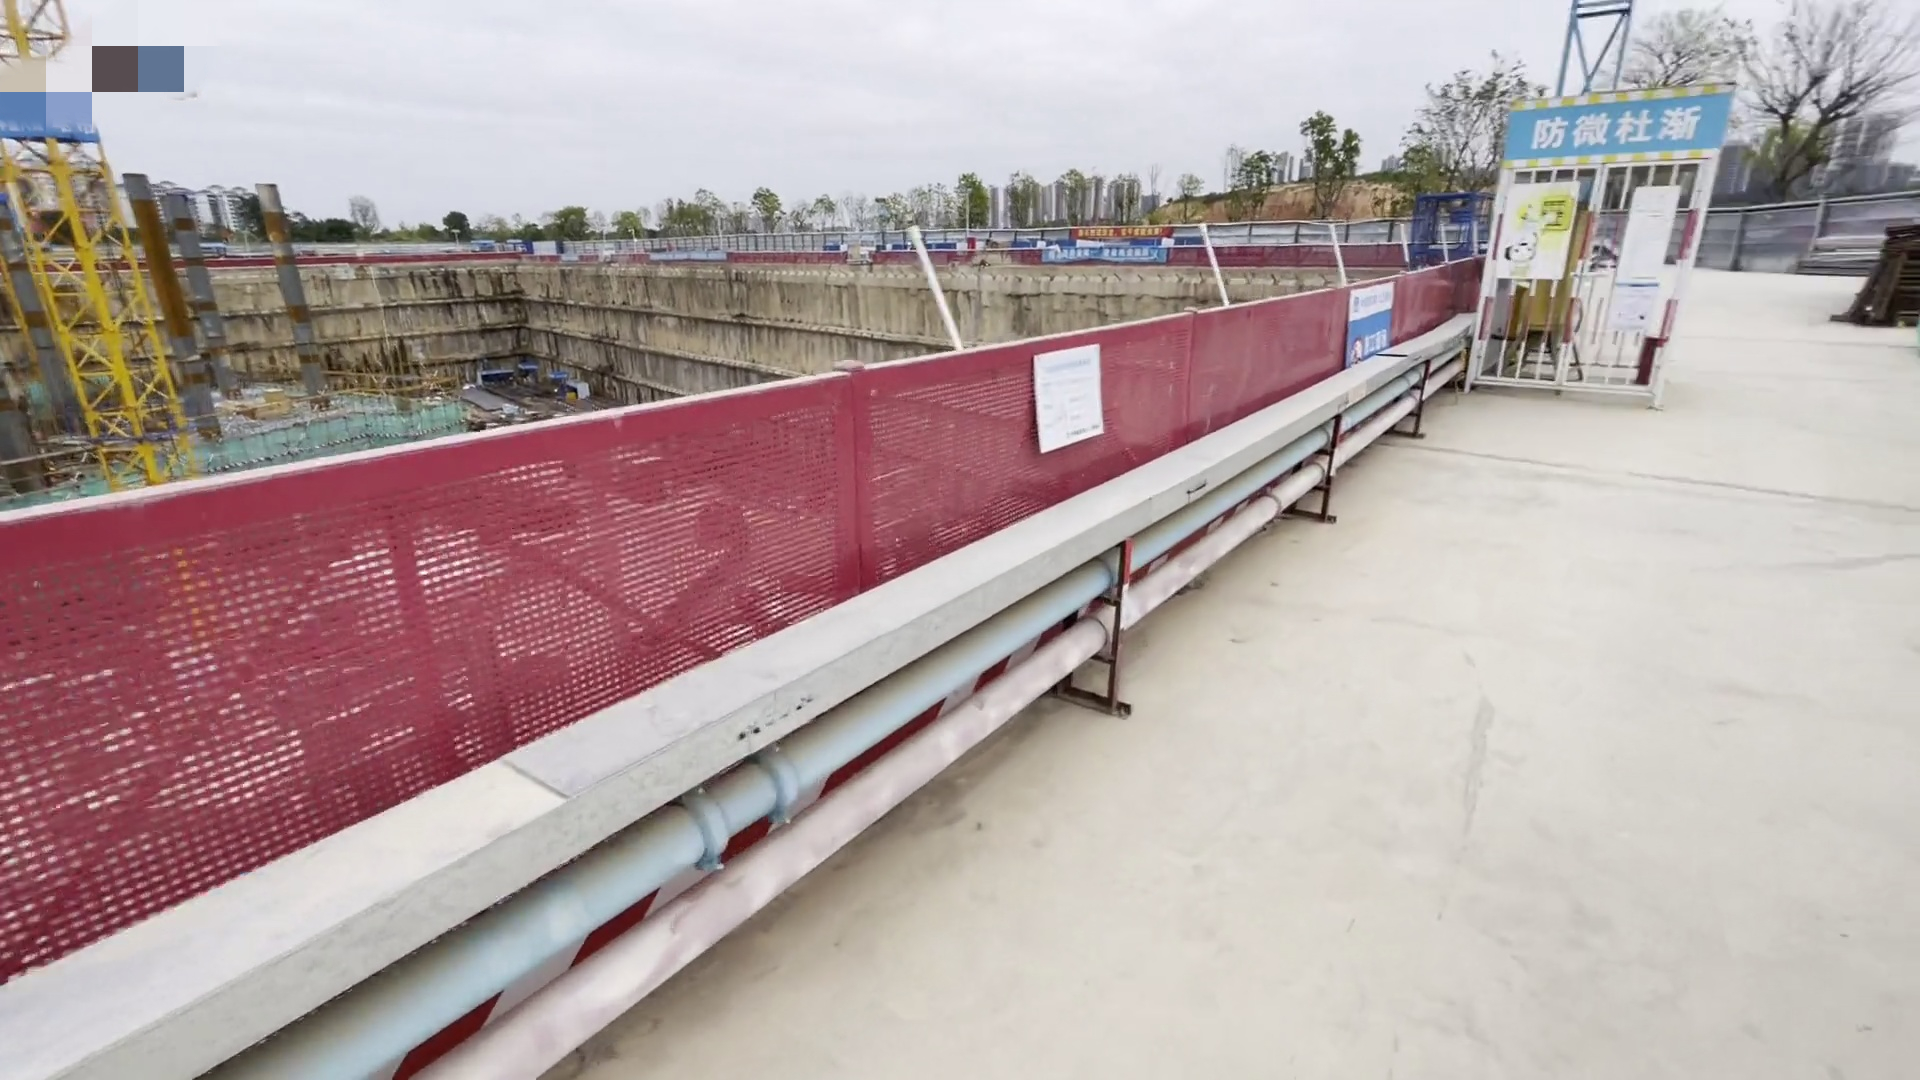fence: (1, 258, 1476, 977)
slogan: (1519, 108, 1710, 156), (1069, 220, 1153, 266)
